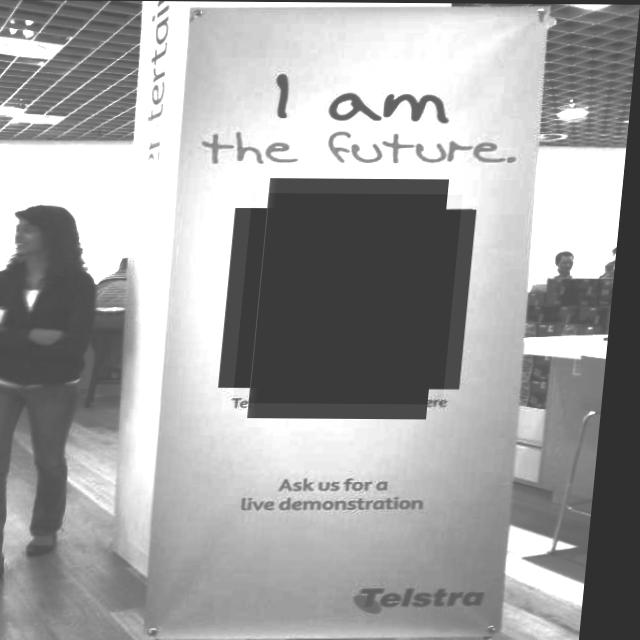qr_code: (241, 193, 467, 404)
